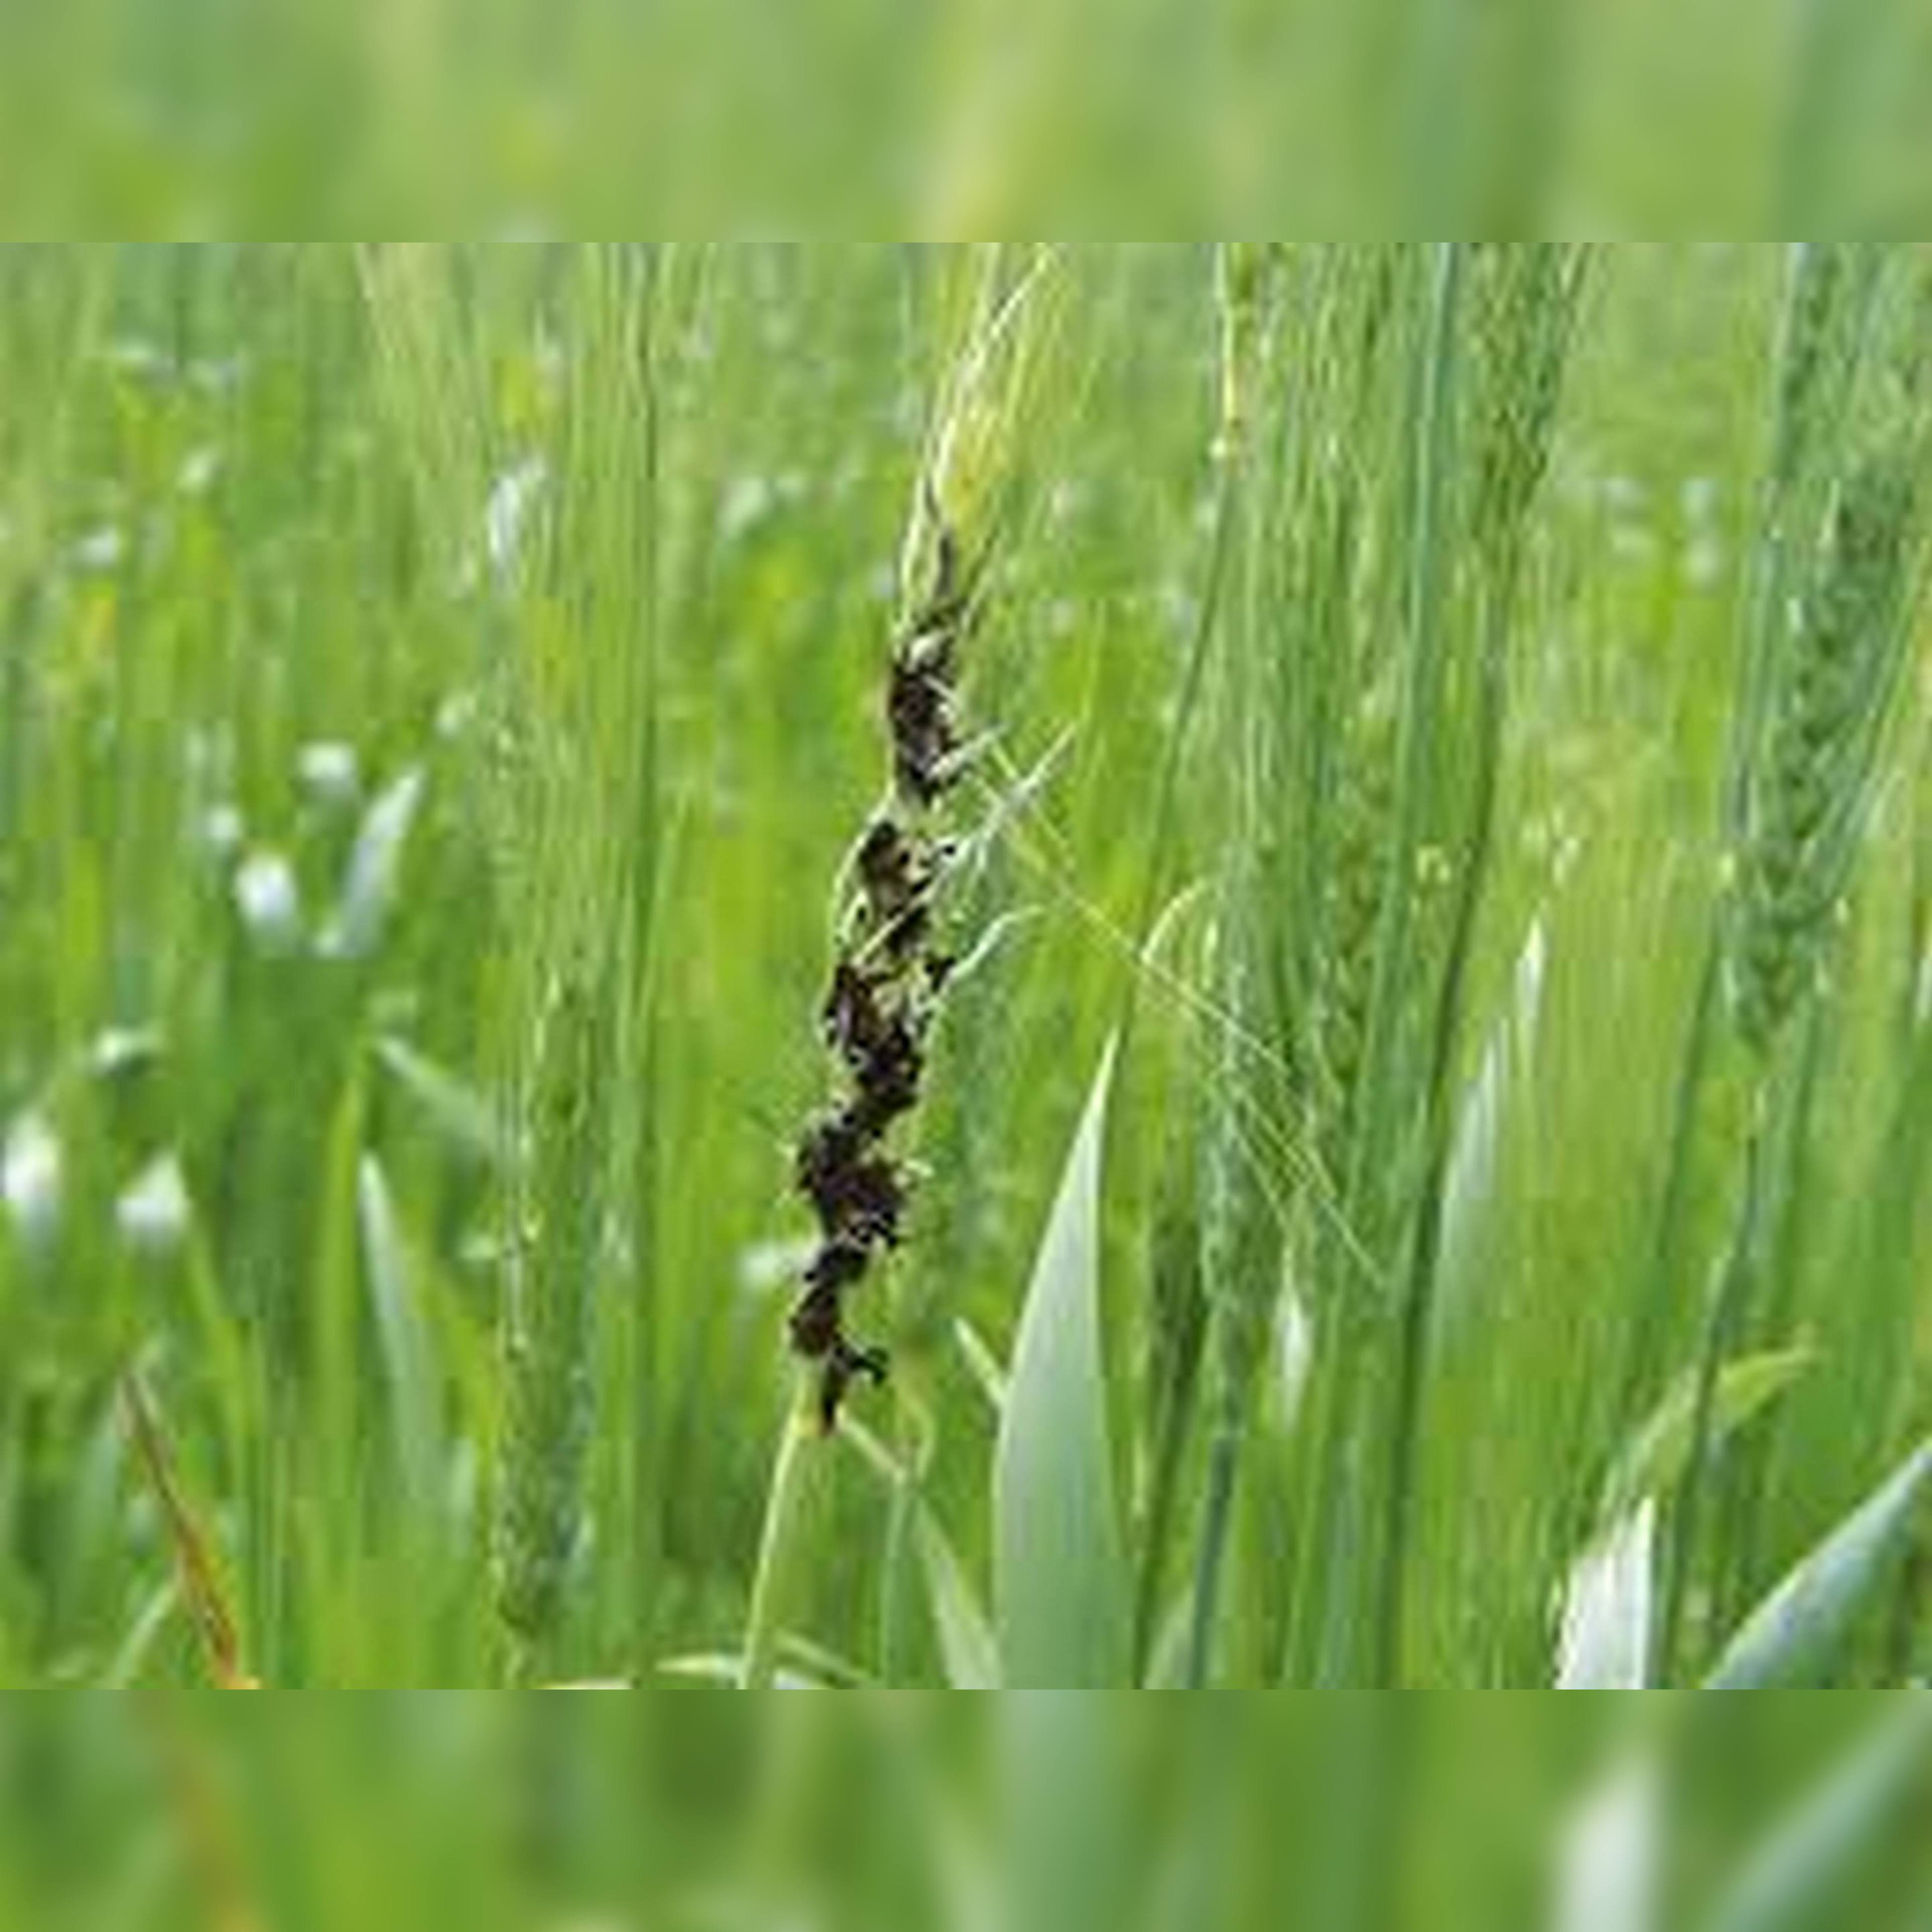Wheat Loose Smut: (752, 596, 1001, 1419)
